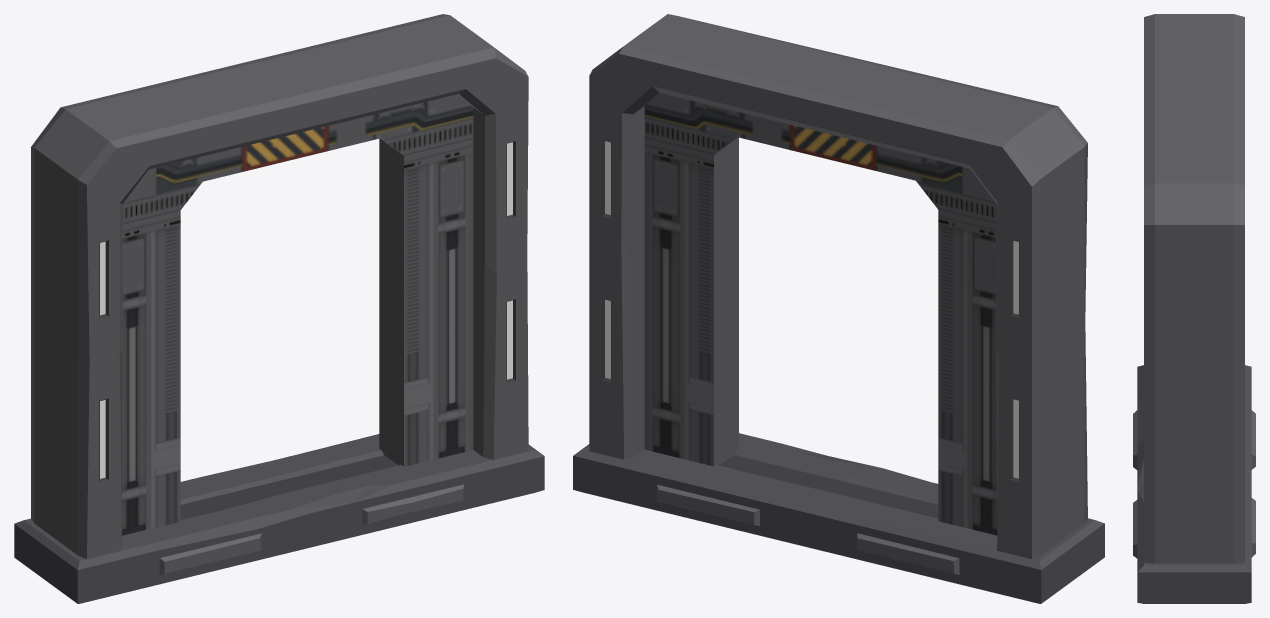
Rendered from worlds_SM_Bld_Door_Double_To_Single_01.gltf.
3 views of the same model, side by side, from view 1: azimuth 30°, elevation 25°; view 2: azimuth 150°, elevation 25°; view 3: azimuth 270°, elevation 25° (orthographic). The views are drawn at different scales.
Visible parts, largest first — view 1: SM_Bld_Door_Double_To_Single_01; view 2: SM_Bld_Door_Double_To_Single_01; view 3: SM_Bld_Door_Double_To_Single_01.
Part boxes in pixels (<box>): SM_Bld_Door_Double_To_Single_01: <box>14,14,544,603</box>; SM_Bld_Door_Double_To_Single_01: <box>573,14,1104,603</box>; SM_Bld_Door_Double_To_Single_01: <box>1133,14,1255,603</box>.
Bounding box in the file's own units: 3.76 × 3.46 × 0.9487.
1 material, 1 textured.
